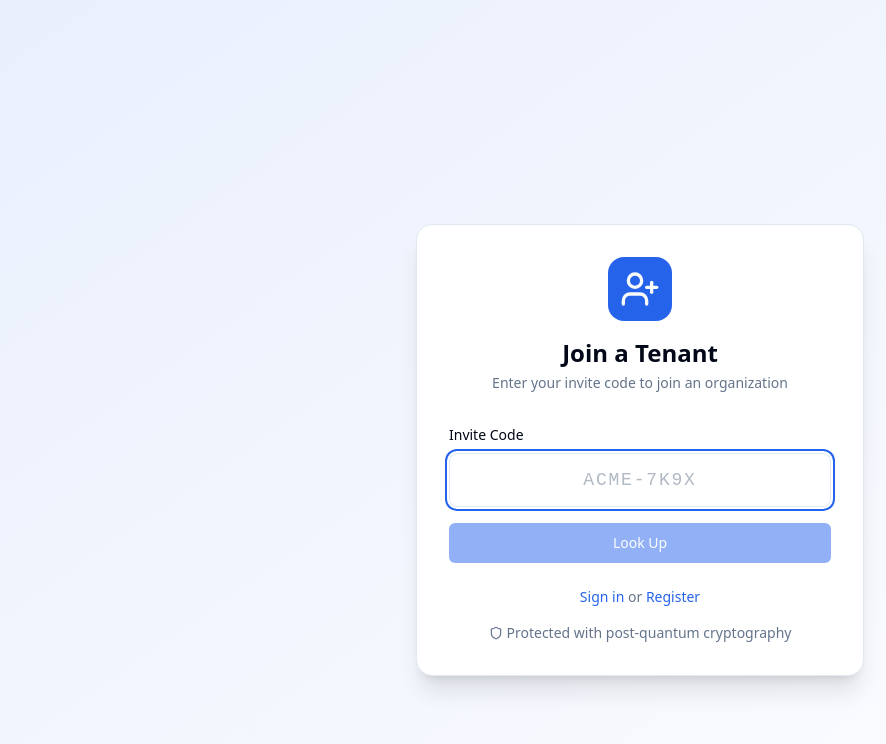
Test: JoinTenantPage › should show error for expired code (410)
Type "EXPIRED" into the field with placeholder "ACME-7K9X" at (640, 480), box 449,453 -> 831,507
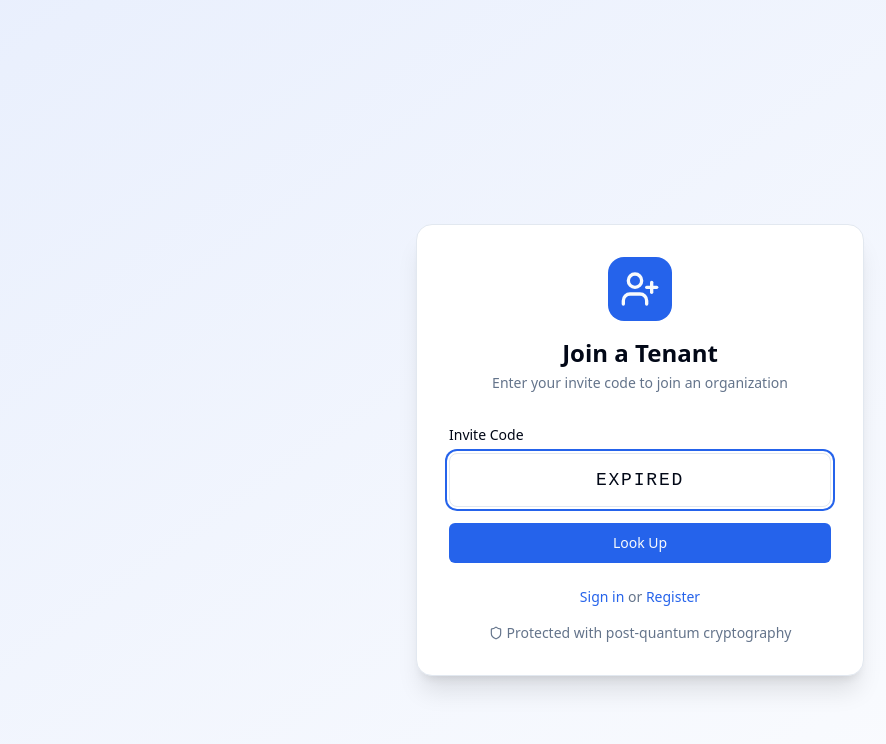
Click the button "Look Up" at (640, 543), box 449,523 -> 831,563
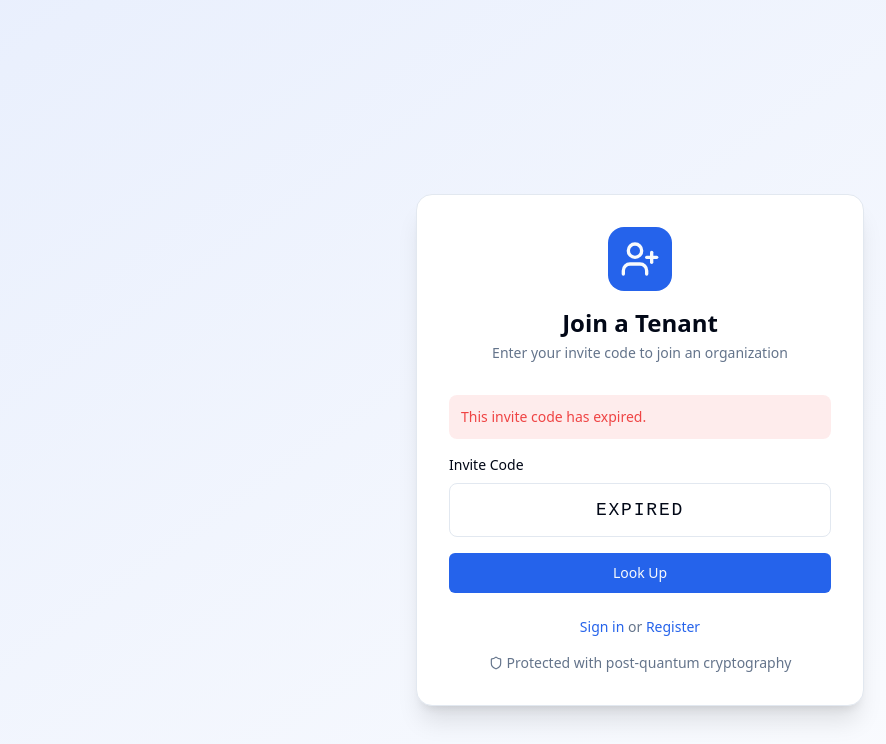
Result: the text "This invite code has expired." is shown at 449,395 -> 831,439
